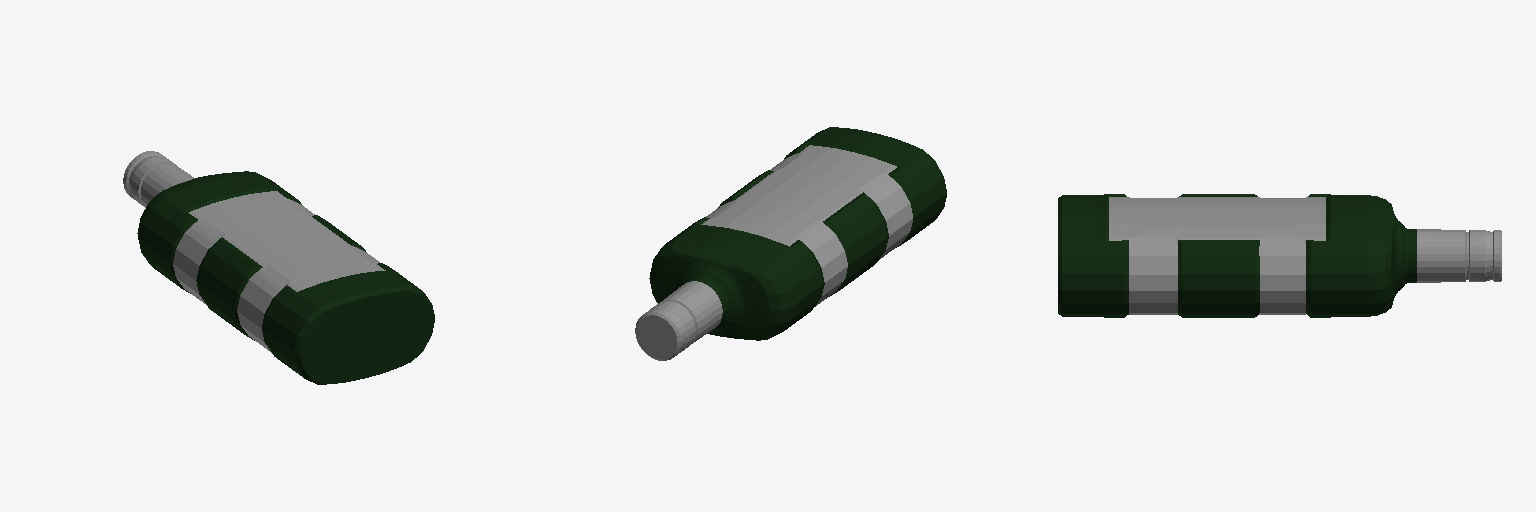
3 views of the same model, side by side, from view 1: azimuth 30°, elevation 25°; view 2: azimuth 150°, elevation 25°; view 3: azimuth 270°, elevation 25° (orthographic).
Visible parts, largest first — view 1: Becherovka; view 2: Becherovka; view 3: Becherovka.
Part boxes in pixels (x1,y1,x2,y2): Becherovka: (123,151,434,384); Becherovka: (635,127,946,360); Becherovka: (1058,194,1501,317).
Size of the model in its own units: 0.5928 by 0.3444 by 1.61.